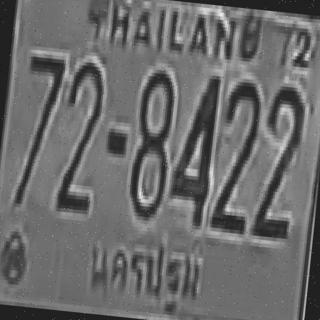N02: (251, 79, 306, 237), (209, 76, 262, 231), (55, 57, 106, 211)
N04: (166, 69, 220, 227)
N07: (13, 49, 66, 207)
N08: (125, 64, 176, 218)
P28: (80, 225, 210, 320)
